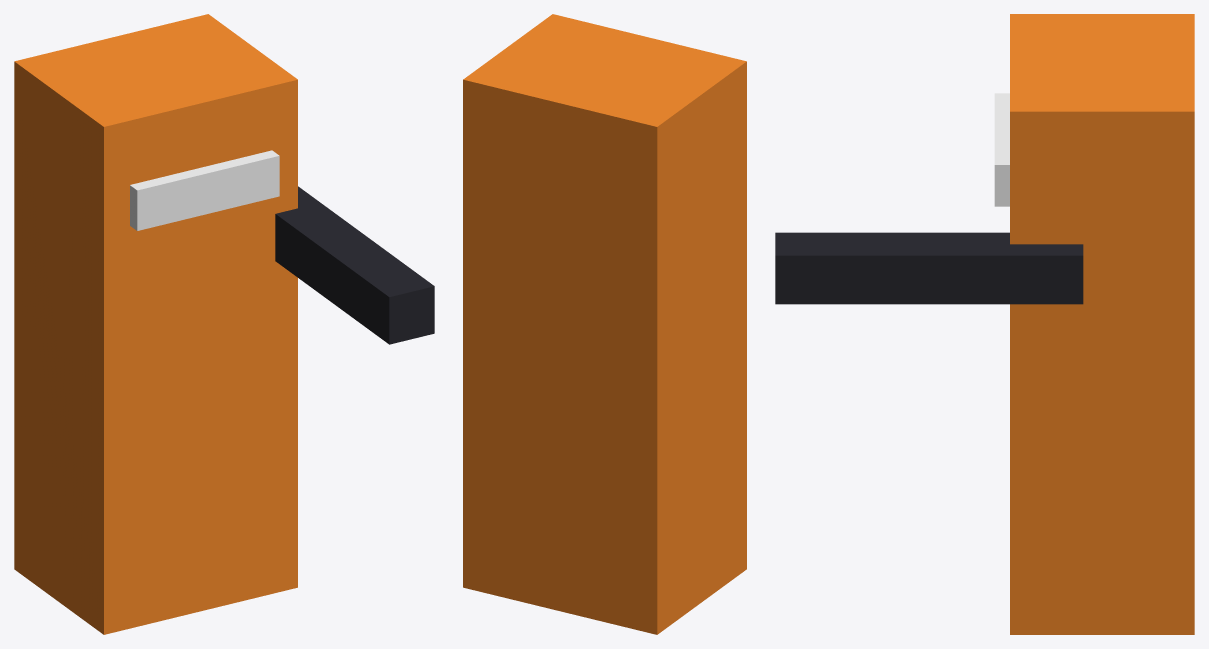
File: slowGunnerLaunched.obj
The picture shows the model from 3 angles, left to right: view 1: azimuth 30°, elevation 25°; view 2: azimuth 150°, elevation 25°; view 3: azimuth 270°, elevation 25°; orthographic projection. The views are drawn at different scales.
Size of the model in its own units: 0.67 by 1.5 by 1.09.
